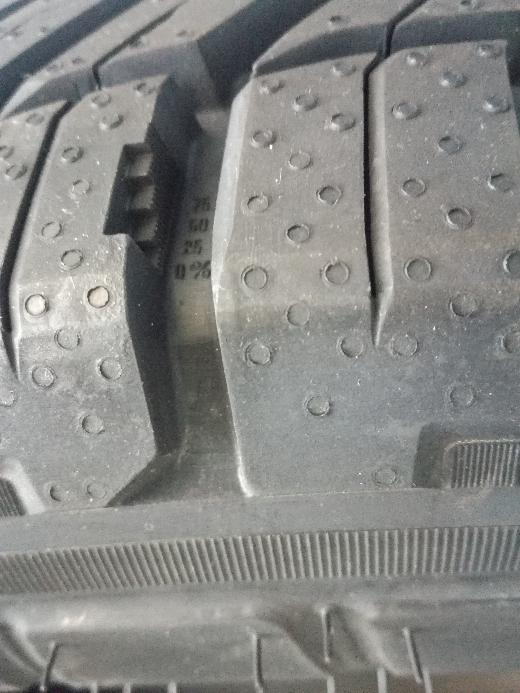temoin:100: (102, 122, 182, 281)
